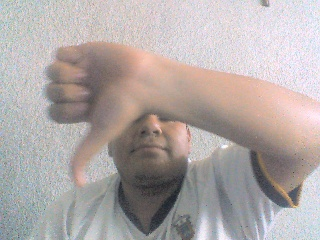Atras: (46, 37, 151, 189)
